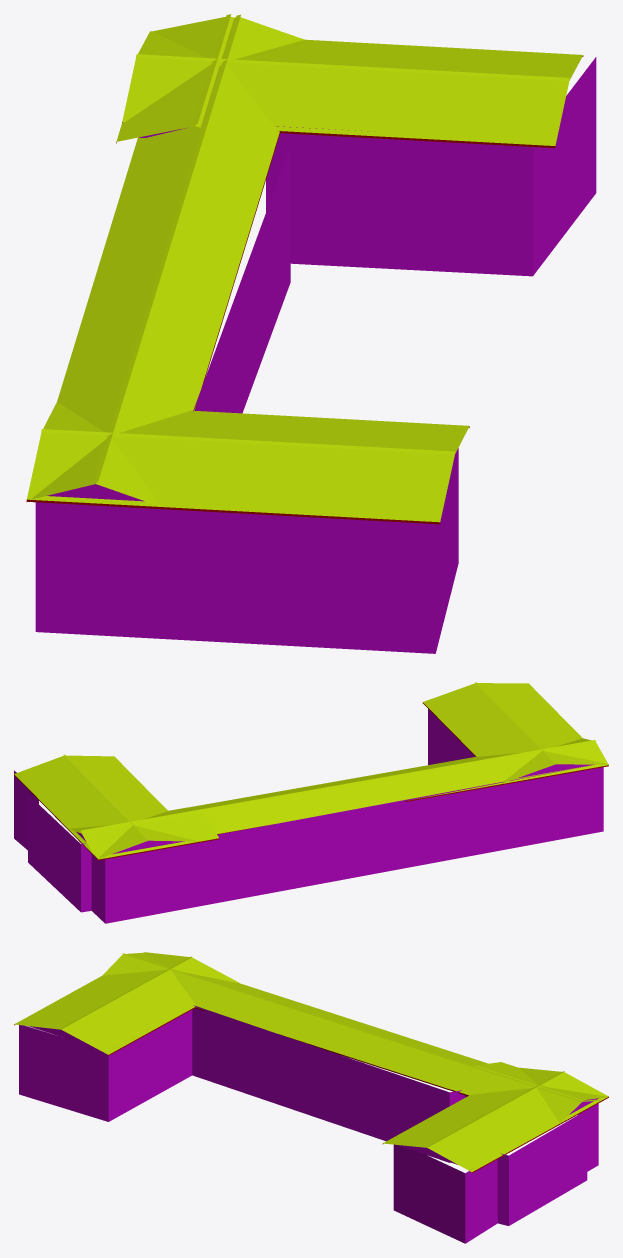
File: svc_92.glb
3 renders of one model, top to bottom at view 1: azimuth 30°, elevation 25°; view 2: azimuth 150°, elevation 25°; view 3: azimuth 270°, elevation 25°, orthographic. The views are drawn at different scales.
Parts seen in each view (by area): view 1: svc_92; view 2: svc_92; view 3: svc_92.
Boxes of the visible parts, x1,y1,x2,y2 form: svc_92: [26, 14, 596, 653]; svc_92: [14, 682, 608, 923]; svc_92: [14, 952, 608, 1243].
Bounding box in the file's own units: 51.04 × 8.7 × 57.86.
